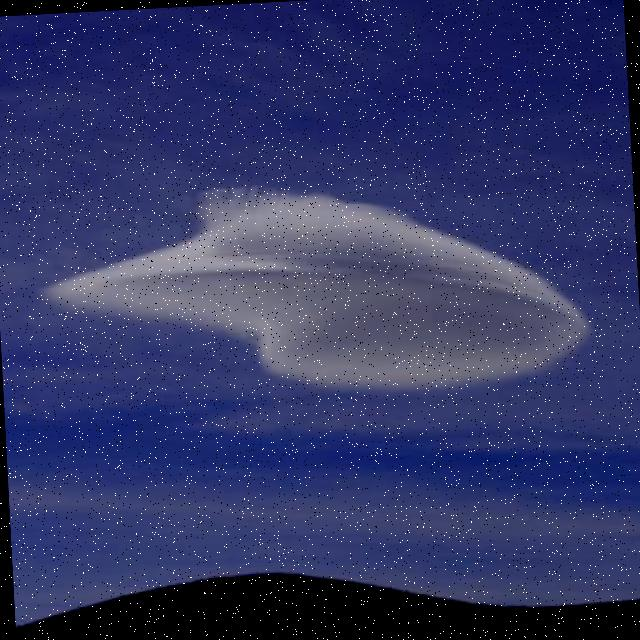Ac: (24, 161, 611, 423)
